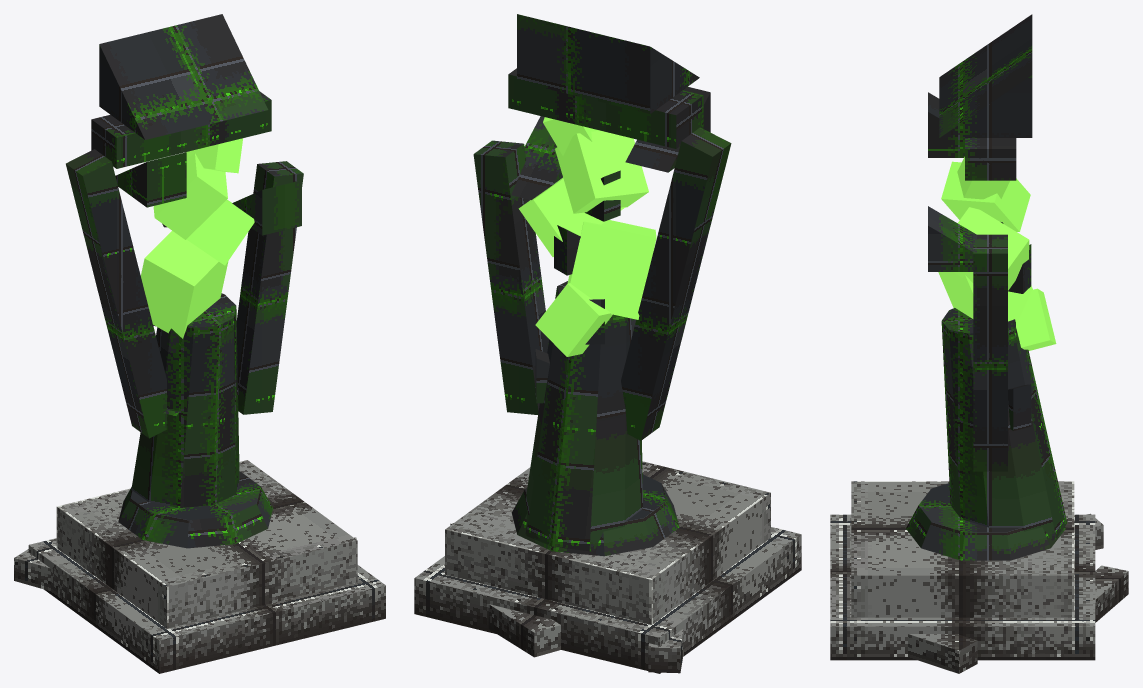
File: epsilon_b_core.glb
The picture shows the model from 3 angles, left to right: view 1: azimuth 30°, elevation 25°; view 2: azimuth 150°, elevation 25°; view 3: azimuth 270°, elevation 25°; orthographic projection. The views are drawn at different scales.
Visible parts, largest first — view 1: epsilon_b_core; view 2: epsilon_b_core; view 3: epsilon_b_core.
Boxes of the visible parts, box(x1,y1,x2,y2) form: epsilon_b_core: box(14, 14, 385, 673); epsilon_b_core: box(414, 14, 801, 673); epsilon_b_core: box(830, 14, 1128, 673).
Bounding box in the file's own units: 1.4 × 2.63 × 1.28.
3 materials, 2 textured.
